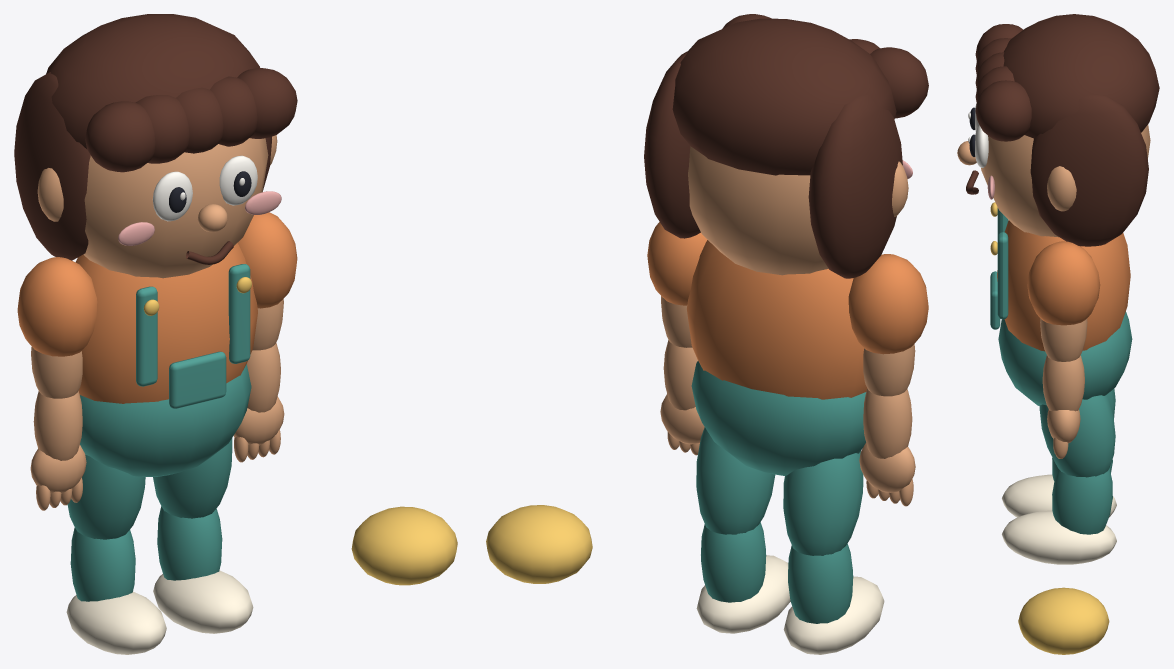
The model's file is ava-need-again.glb.
The picture shows the model from 3 angles, left to right: view 1: azimuth 30°, elevation 25°; view 2: azimuth 150°, elevation 25°; view 3: azimuth 270°, elevation 25°; orthographic projection. The views are drawn at different scales.
Visible parts, largest first — view 1: soft shirt, hair cap, clay head, overalls, bob hair, second bounce marker, shirt sleeve, little shoe, little shoe.001, trouser leg, fringe, lower leg (+22 smaller); view 2: hair cap, soft shirt, bob hair, overalls, clay head, second bounce marker, trouser leg, shirt sleeve, bob hair.001, trouser leg.001, lower leg, lower leg.001 (+11 smaller); view 3: bob hair.001, hair cap, soft shirt, shirt sleeve.001, overalls, second bounce marker, clay head, little shoe.001, trouser leg.001, lower leg.001, fringe.004, forearm.001 (+12 smaller).
Part boxes in pixels (left/top/right/bottom): soft shirt: left=75, top=243, right=257, bottom=403; hair cap: left=46, top=14, right=259, bottom=148; clay head: left=83, top=138, right=268, bottom=278; overalls: left=80, top=364, right=251, bottom=476; bob hair: left=14, top=72, right=90, bottom=260; second bounce marker: left=351, top=506, right=457, bottom=585; shirt sleeve: left=17, top=257, right=97, bottom=356; little shoe: left=66, top=591, right=166, bottom=654; little shoe.001: left=153, top=570, right=253, bottom=633; trouser leg: left=67, top=454, right=145, bottom=539; fringe: left=85, top=101, right=155, bottom=172; lower leg: left=70, top=527, right=135, bottom=601; hair cap: left=672, top=18, right=896, bottom=175; soft shirt: left=687, top=240, right=867, bottom=399; bob hair: left=808, top=95, right=902, bottom=278; overalls: left=691, top=361, right=866, bottom=475; clay head: left=688, top=146, right=828, bottom=275; second bounce marker: left=486, top=505, right=592, bottom=583; trouser leg: left=783, top=451, right=863, bottom=555; shirt sleeve: left=848, top=254, right=928, bottom=354; bob hair.001: left=644, top=51, right=700, bottom=238; trouser leg.001: left=696, top=427, right=775, bottom=534; lower leg: left=788, top=543, right=853, bottom=623; lower leg.001: left=701, top=522, right=766, bottom=602; bob hair.001: left=1030, top=94, right=1148, bottom=246; hair cap: left=1003, top=14, right=1159, bottom=138; soft shirt: left=997, top=220, right=1130, bottom=351; shirt sleeve.001: left=1027, top=241, right=1100, bottom=325; overalls: left=998, top=311, right=1132, bottom=406; second bounce marker: left=1018, top=587, right=1109, bottom=654; clay head: left=981, top=124, right=1150, bottom=237; little shoe.001: left=1002, top=510, right=1116, bottom=564; trouser leg.001: left=1039, top=395, right=1115, bottom=477; lower leg.001: left=1052, top=468, right=1112, bottom=534; fringe.004: left=975, top=80, right=1031, bottom=141; forearm.001: left=1042, top=355, right=1084, bottom=411.
Bounding box in the file's own units: 1.39 × 1.88 × 0.665.
